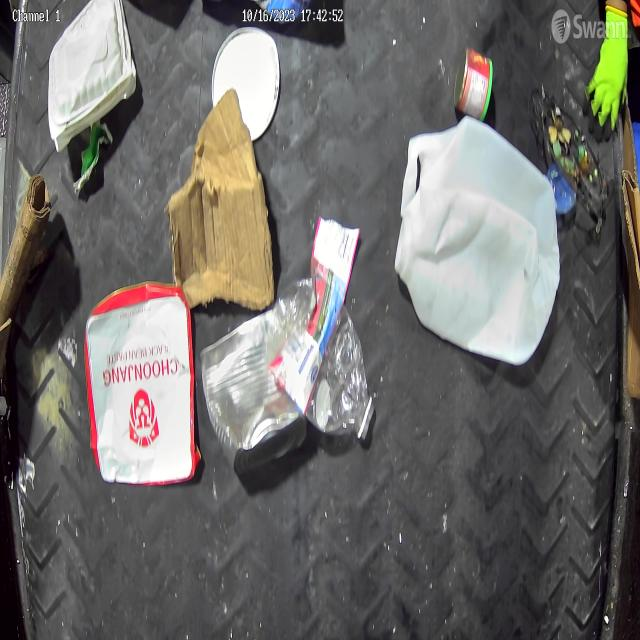can: (198, 310, 306, 475), (450, 46, 492, 123)
milk_jug: (396, 114, 560, 370)
plastic_bottle: (268, 270, 378, 441)
